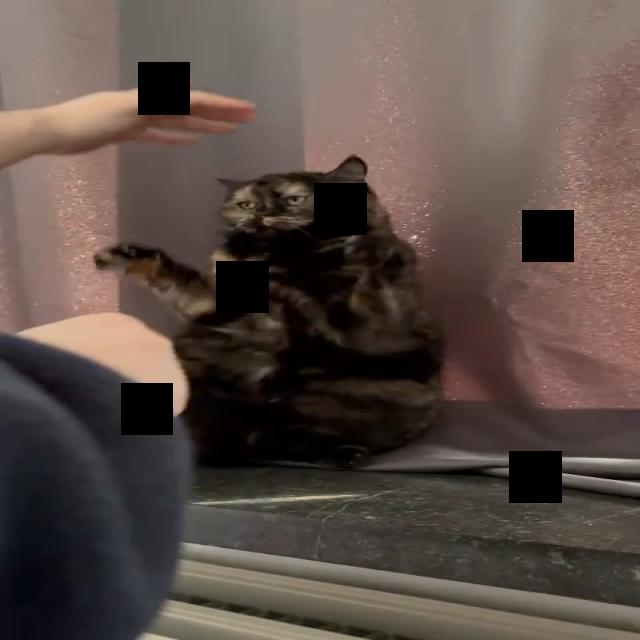authorized: (92, 153, 448, 469)
